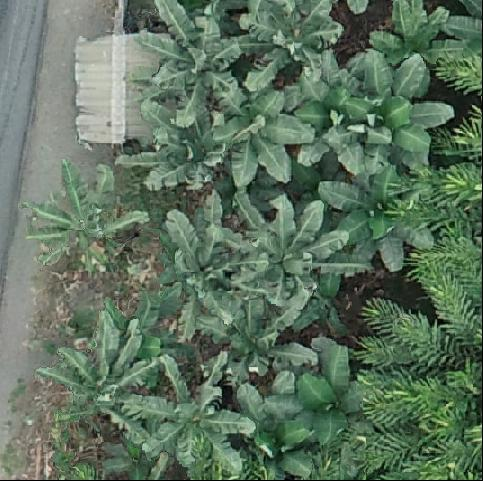Banana-plant: (208, 194, 352, 331), (117, 355, 254, 481), (30, 159, 150, 275), (315, 162, 431, 276), (31, 314, 147, 421), (351, 54, 451, 174), (146, 0, 240, 122), (156, 202, 238, 336), (120, 99, 226, 193), (289, 66, 373, 179), (287, 343, 379, 445), (219, 93, 313, 190), (238, 0, 341, 80), (226, 390, 310, 481)
